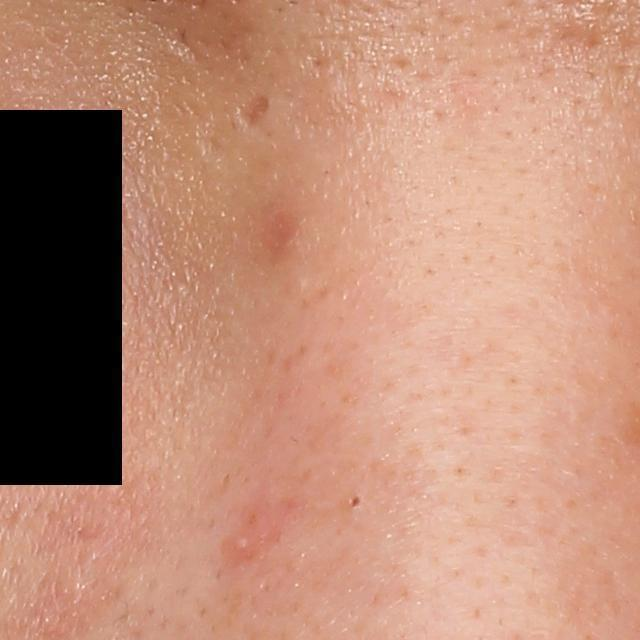atrophic_scar: (549, 18, 607, 60), (232, 92, 271, 134)
comedo: (341, 488, 367, 515)
